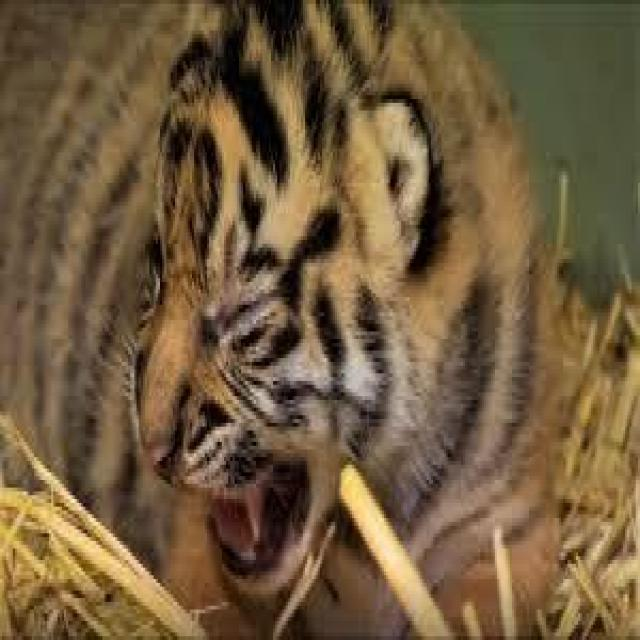Tiger: (116, 27, 443, 617)
